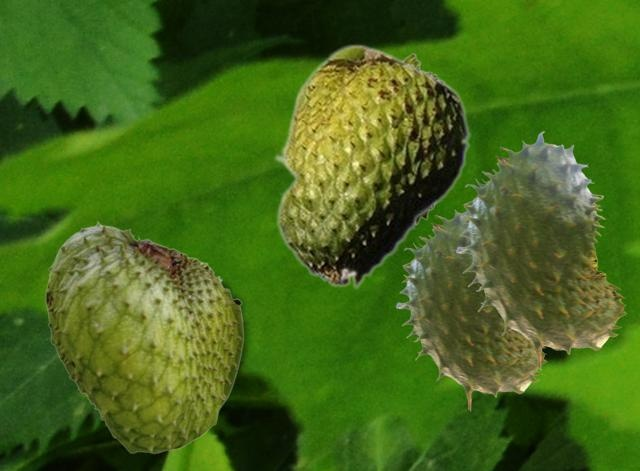guyabano: (273, 43, 470, 290), (45, 220, 243, 453), (456, 131, 626, 369), (396, 209, 546, 410)
